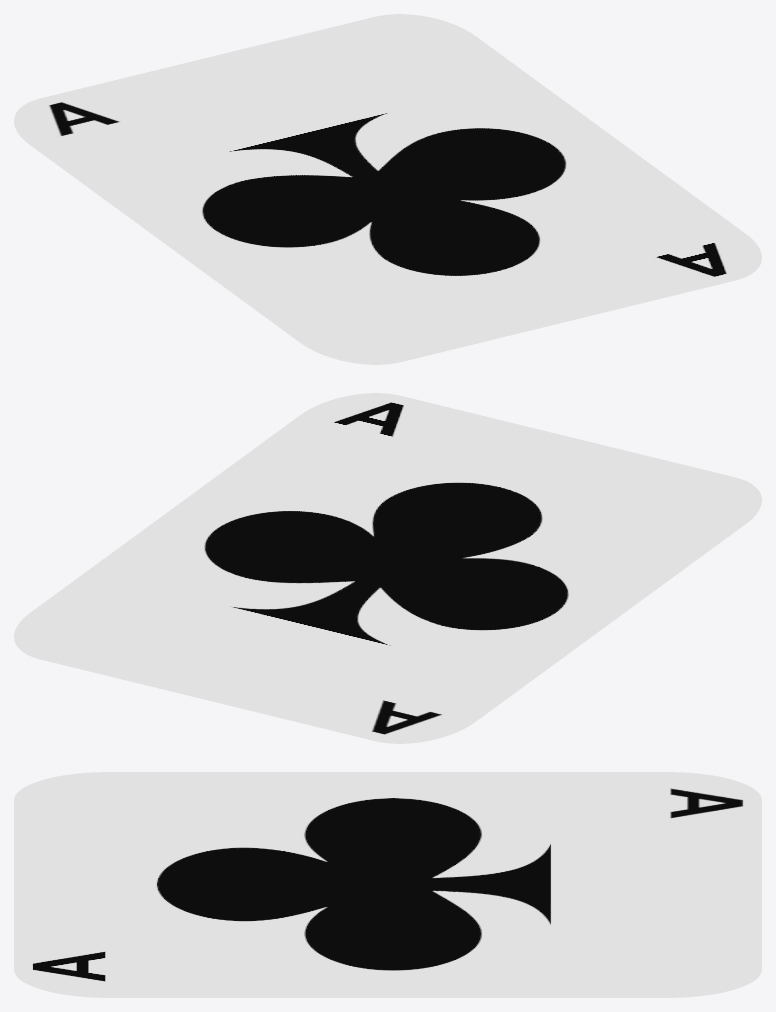
Rendered from ClubsA.fbx.
3 views of the same model, one above another, from view 1: azimuth 30°, elevation 25°; view 2: azimuth 150°, elevation 25°; view 3: azimuth 270°, elevation 25° (orthographic). The views are drawn at different scales.
Visible parts, largest first — view 1: Plane.001; view 2: Plane.001; view 3: Plane.001.
Boxes of the visible parts, bbox=[...] form: Plane.001: bbox=[14, 14, 761, 364]; Plane.001: bbox=[14, 393, 761, 743]; Plane.001: bbox=[14, 772, 761, 997].
Size of the model in its own units: 500 by 0 by 700.
Materials: 1 (1 with a texture image).
